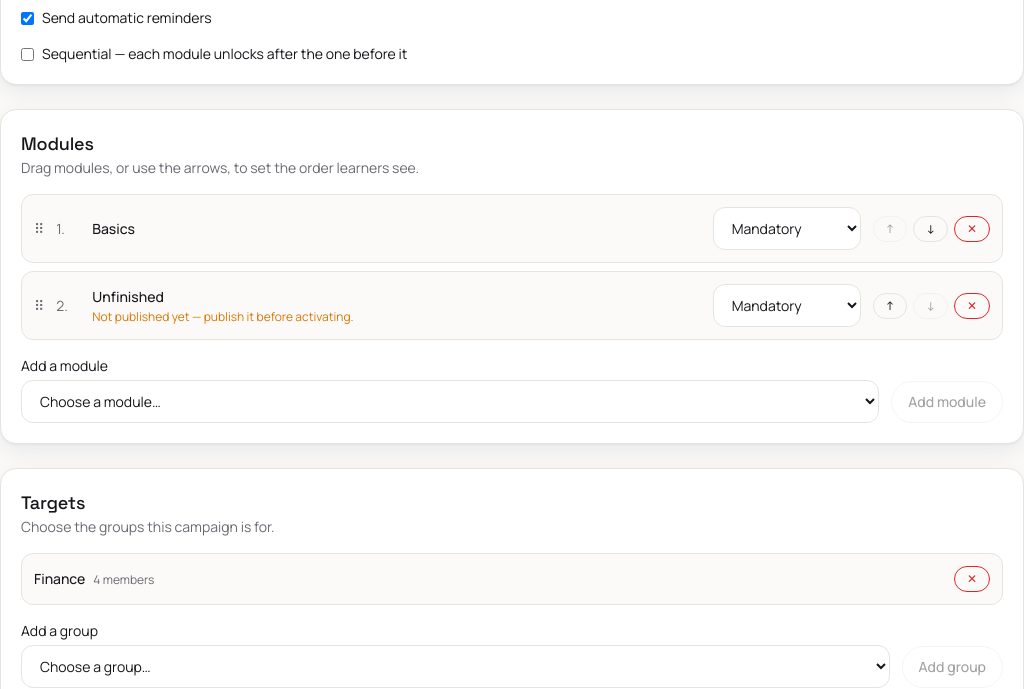
Scenario: CampaignBuilderPage › still reaches the confirmation when the preview fails and the server refuses
(page scrolled)
Step 1. Click the button named "Remove Unfinished" → click(972, 306), box [954,292,990,318]
(page scrolled)
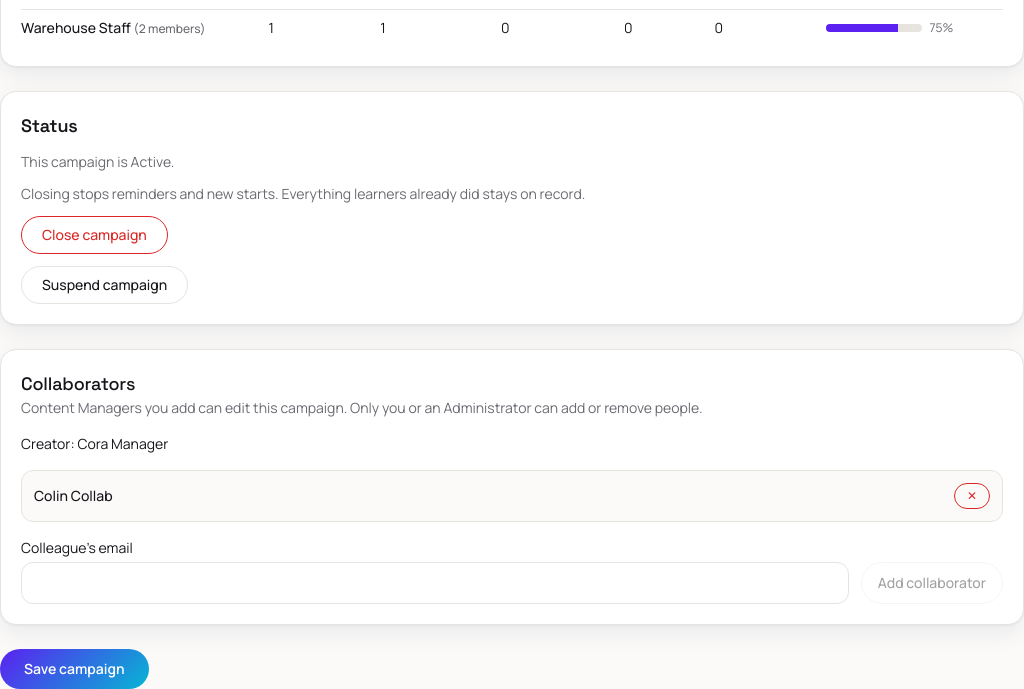
Step 2. Click the button "Save campaign" → click(74, 669), box [0,649,149,688]
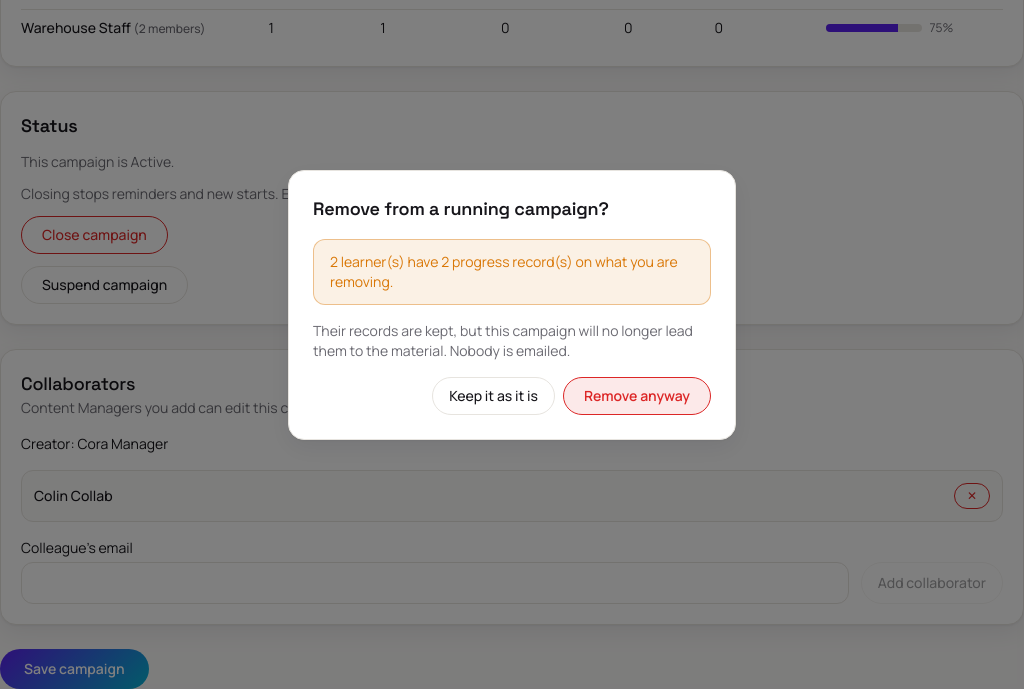
Result: the text "2 learner(s) have 2 progress record(s) on what you are removing." is shown at [313,239,711,305]
